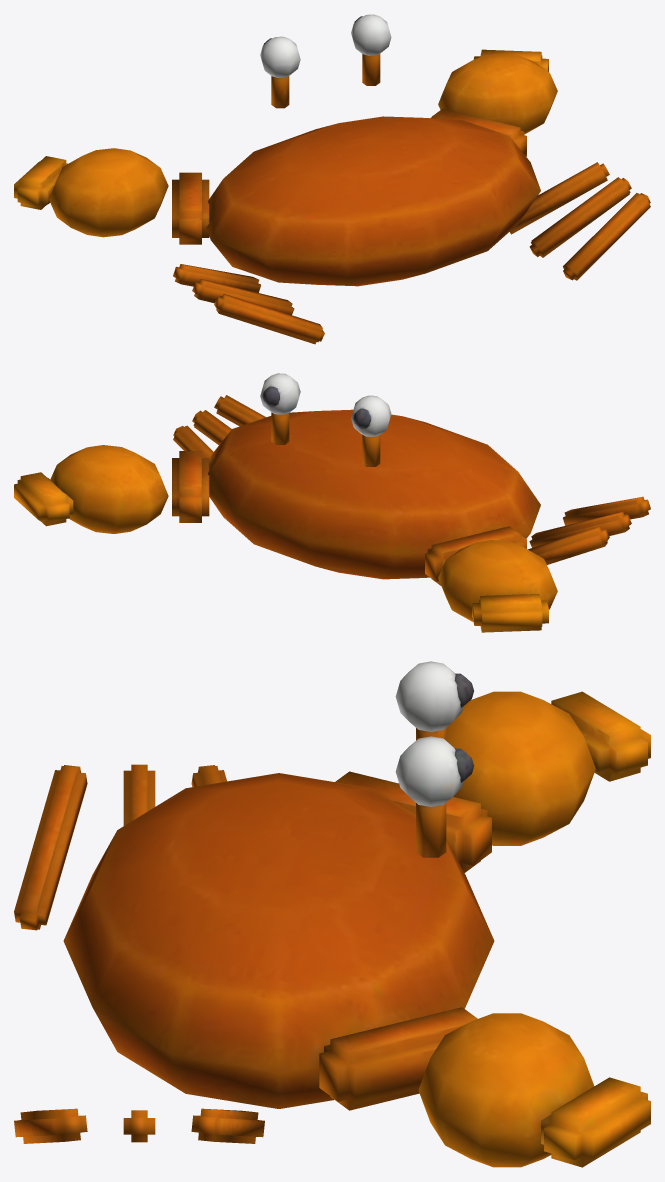
Rendered from Crab.glb.
3 views of the same model, one above another, from view 1: azimuth 30°, elevation 25°; view 2: azimuth 150°, elevation 25°; view 3: azimuth 270°, elevation 25° (orthographic). The views are drawn at different scales.
Visible parts, largest first — view 1: Crab; view 2: Crab; view 3: Crab.
Part boxes in pixels (x1=…): Crab: x1=14, y1=14, x2=650, y2=344; Crab: x1=14, y1=373, x2=650, y2=632; Crab: x1=14, y1=661, x2=650, y2=1167.
Size of the model in its own units: 0.8191 by 0.3015 by 0.5024.
1 material, 1 textured.
